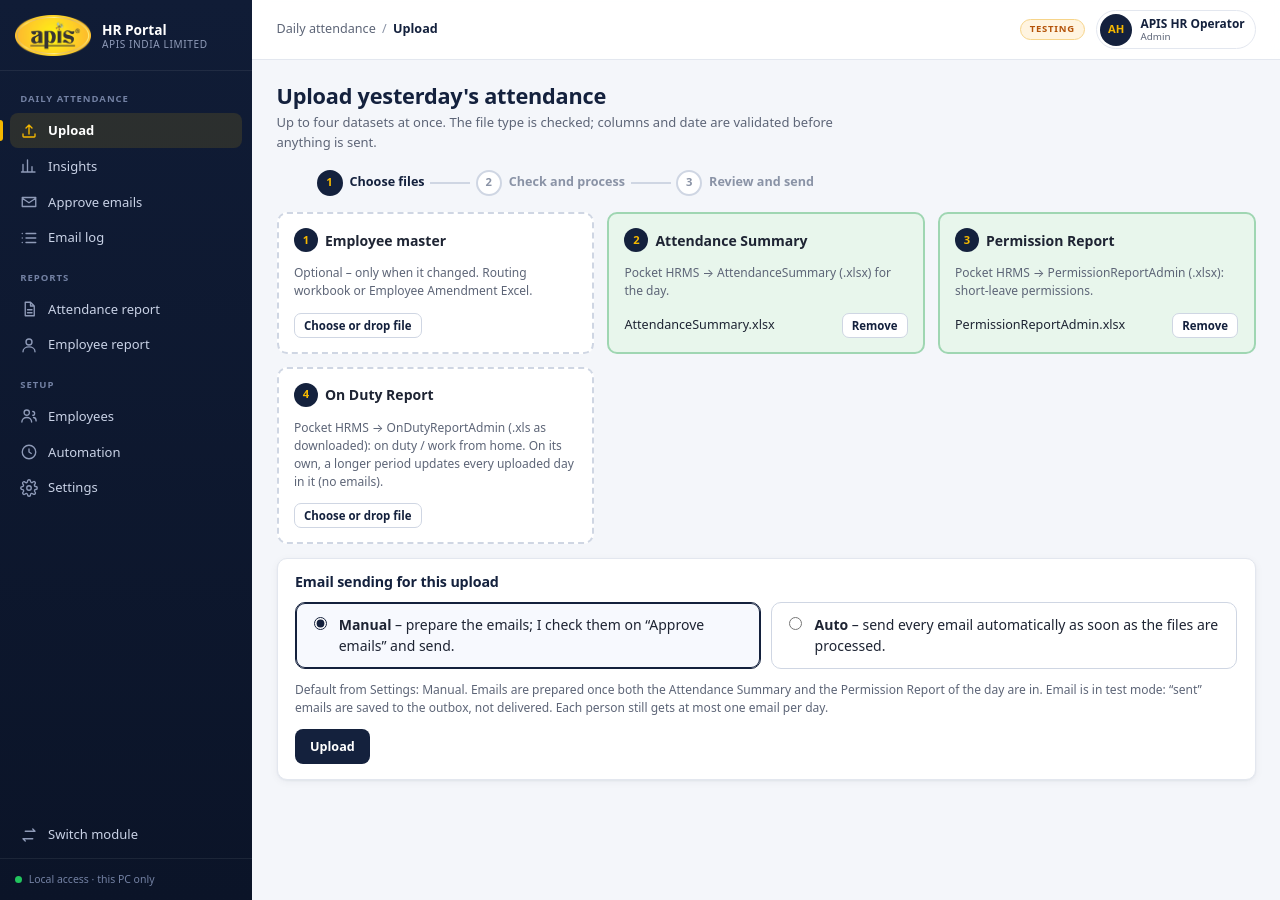
upload: three dataset boxes, manual mode by default, Replace when the day exists
Earlier steps of the test are not shown.
Later steps or results of the test are not shown.
Expected: the radio button labelled "Manual" is checked, 314,617 -> 327,630
Expected: the text "AttendanceSummary.xlsx" is shown, 624,316 -> 775,335
Click the button "Upload" at [332, 746], box 295,729 -> 370,764
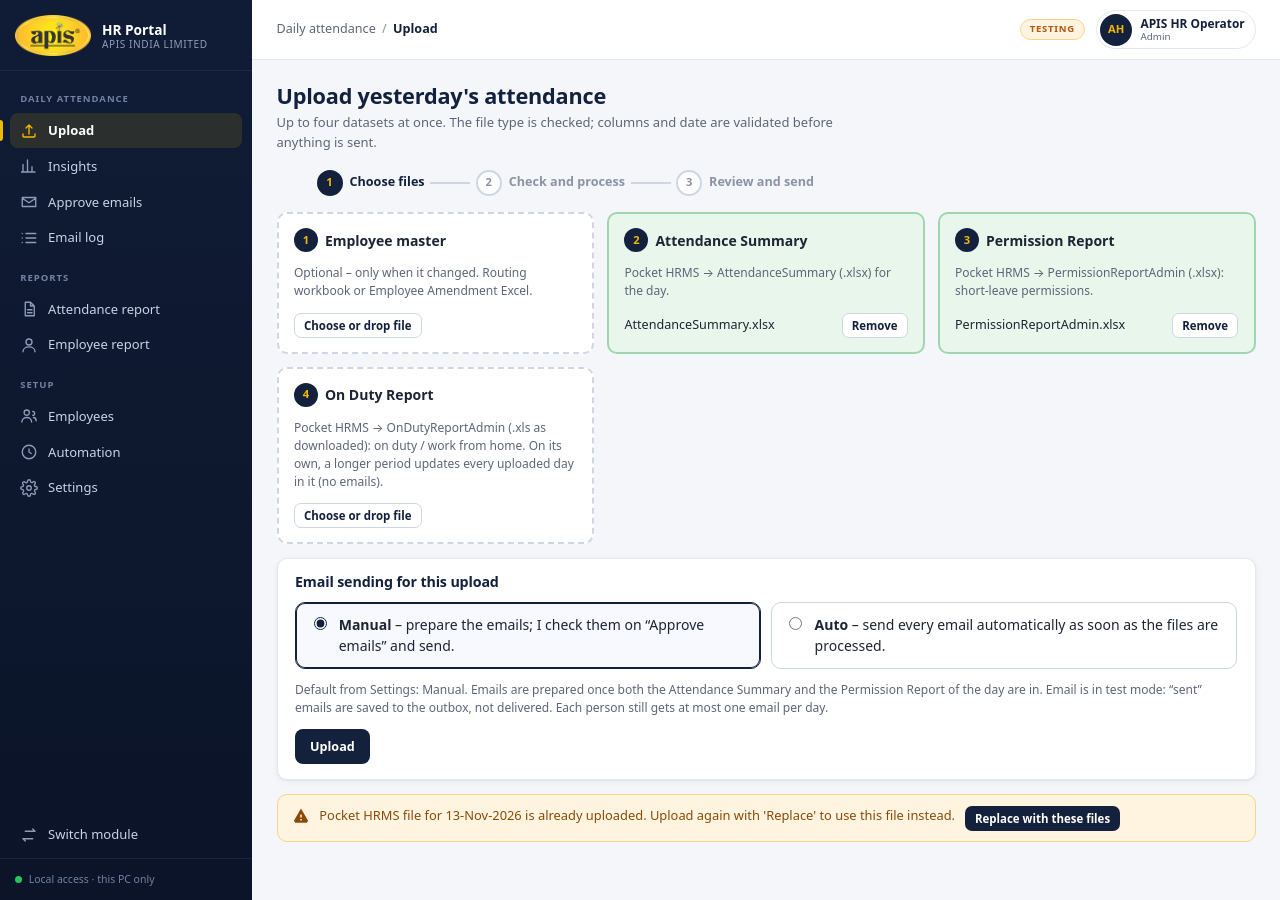
Click the button "Replace with these files" at [1042, 818], box 965,806 -> 1120,831
(page scrolled)
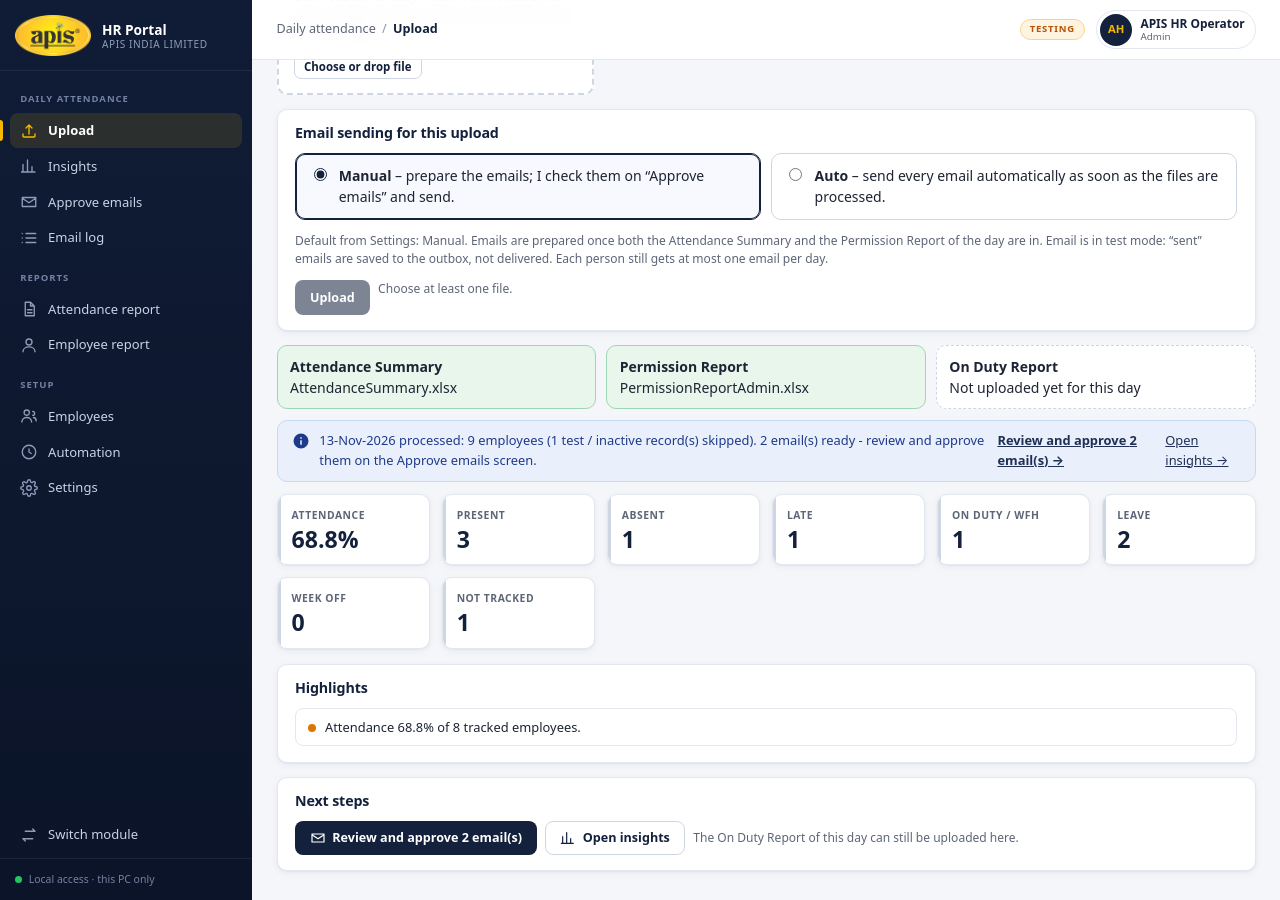
Now the text "13-Nov-2026 processed: 9 employees" is shown, box 276,420 -> 1256,482
